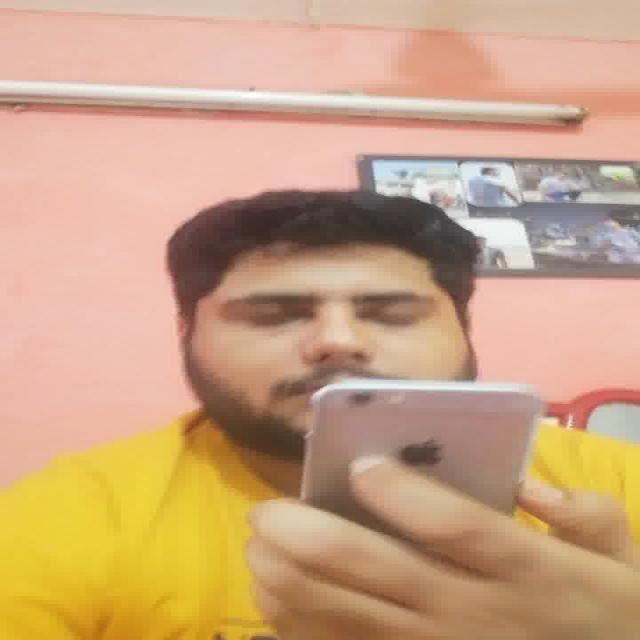Phone: (298, 379, 544, 524)
